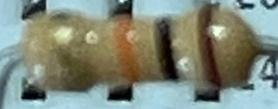Black: (152, 15, 185, 84)
Brown: (195, 5, 225, 86)
Orange: (113, 14, 142, 82)
Side-Gold: (47, 8, 86, 92)
